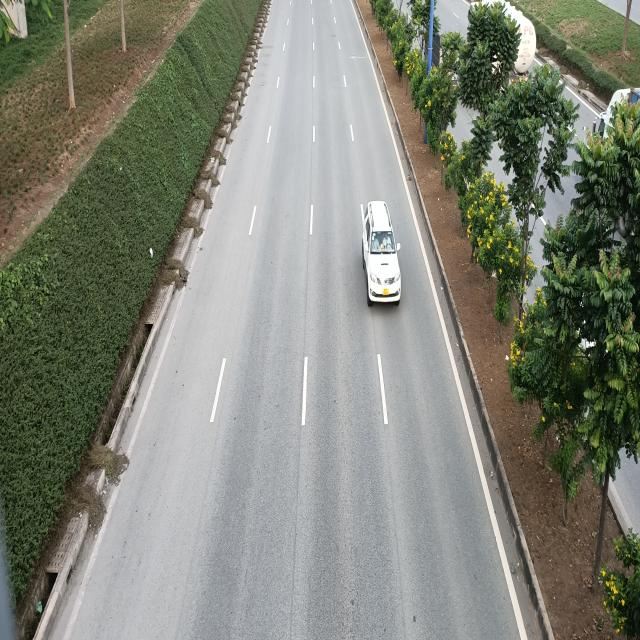car: (362, 202, 401, 306)
